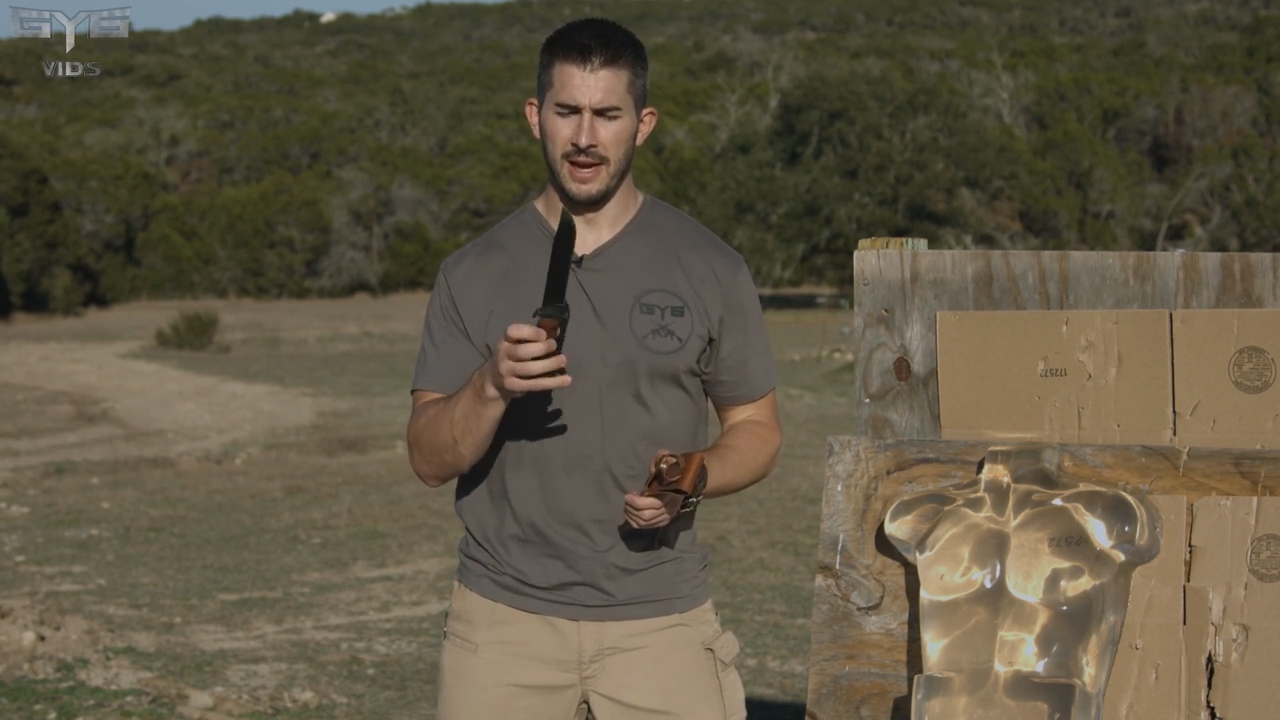knife: (492, 192, 593, 392)
